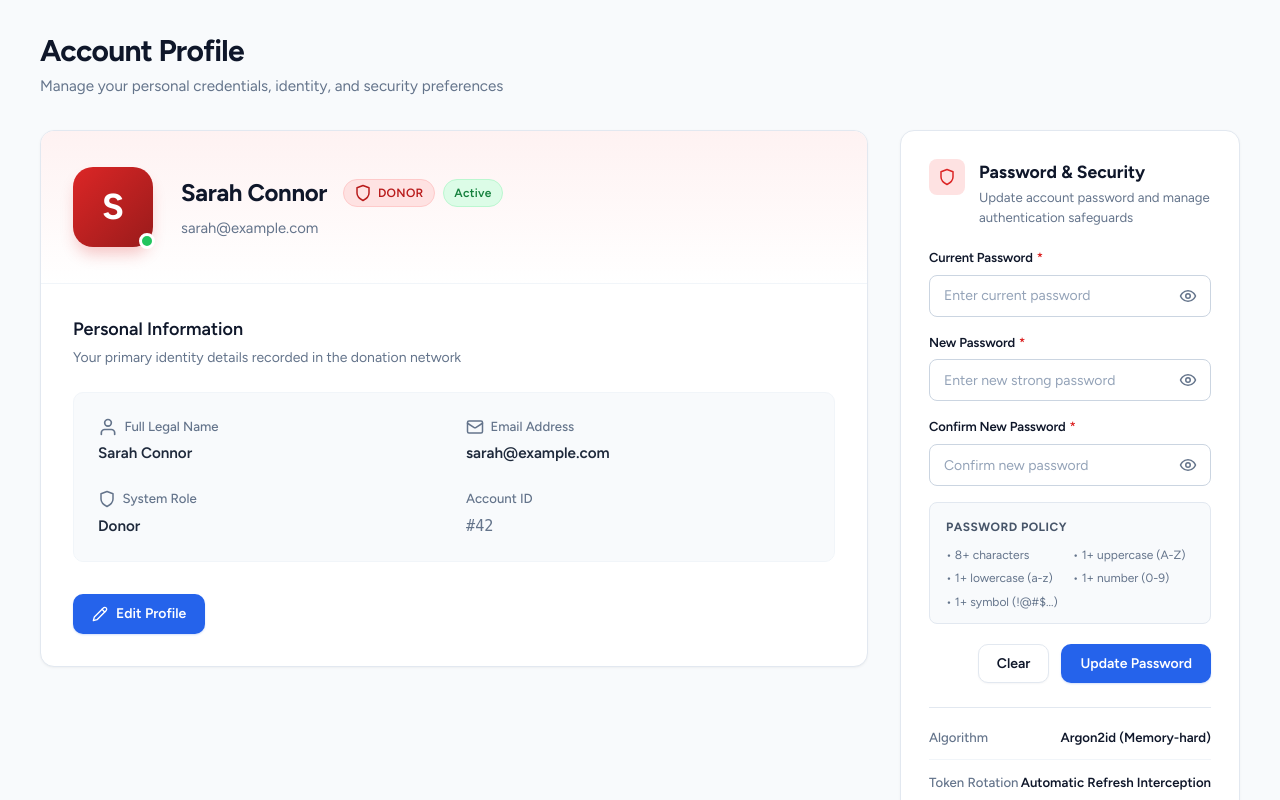
Test: Profile Page - Password Management Section › displays validation error if required fields are empty or mismatched
Click the button with test id "btn-update-password". click: (1136, 664)
box: x1=1061 y1=644 x2=1211 y2=683
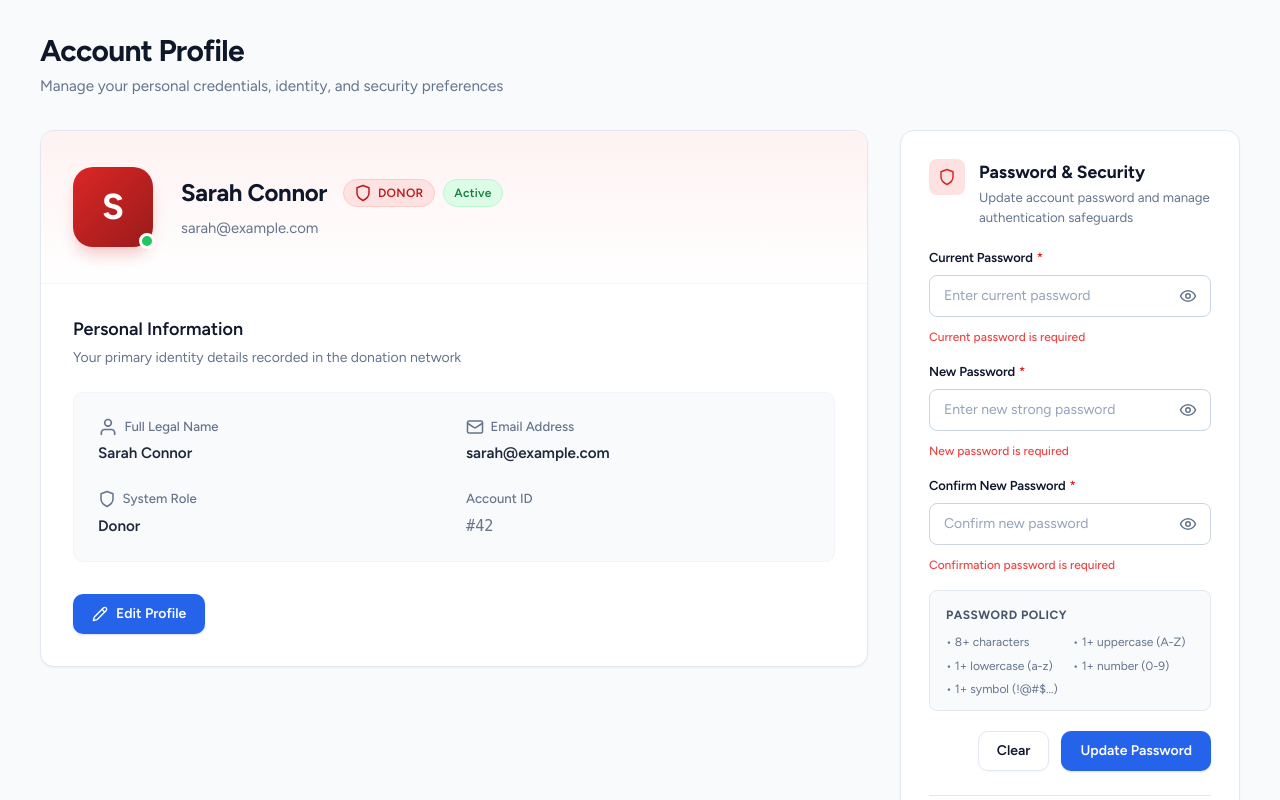
Check: the text with test id "error-current-password" reads "Current password is required", box x1=929 y1=330 x2=1085 y2=344
Check: the text with test id "error-new-password" reads "New password is required", box x1=929 y1=444 x2=1069 y2=458
Check: the text with test id "error-confirm-password" reads "Confirmation password is required", box x1=929 y1=558 x2=1115 y2=572
